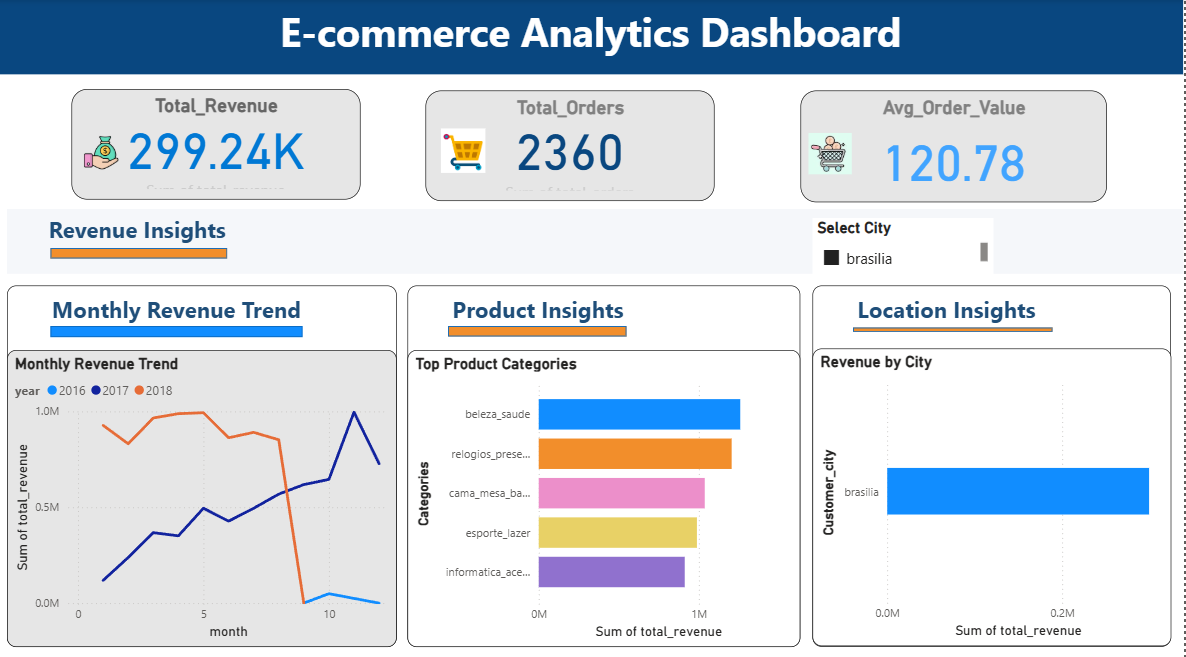

Layout of this report page (visuals, bound fields, positions):
{"tool":"powerbi","page":{"name":"Page 1","canvas":[1280,720],"ordinal":0},"visuals":[{"type":"textbox","box":[9.7,262.3,280.1,17.8],"z":0},{"type":"textbox","box":[0,0,1279.4,81.3],"z":1000},{"type":"card","title":"Total_Revenue","fields":{"Values":["Sum(revenue.total_revenue)"]},"box":[79.4,96.4,311.8,119.1],"z":2000},{"type":"image","box":[79.4,139.8,64.3,52.9],"z":3000},{"type":"card","title":"Total_Orders","fields":{"Values":["Sum(orders-by-city.total_orders)"]},"box":[461.1,98.3,311.8,119.1],"z":4000},{"type":"image","box":[461.1,134.2,81.3,58.6],"z":5000},{"type":"card","title":"Avg_Order_Value","fields":{"Values":["Sum(average-order-value.avg_order_value)"]},"box":[865.5,98.3,330.7,120.9],"z":6000},{"type":"image","box":[865.5,139.8,64.3,54.8],"z":7000},{"type":"textbox","box":[9.4,226.8,1269.9,69.9],"z":8000},{"type":"shape","box":[56.7,268.3,190.9,11.3],"z":9000},{"type":"textbox","box":[442,309.3,424.2,390.2],"z":10000},{"type":"shape","box":[485.8,353,192.7,11.3],"z":11000},{"type":"textbox","box":[9.7,309.3,421,390.2],"z":12000},{"type":"shape","box":[56.7,353.4,272.1,12],"z":13000},{"type":"textbox","box":[879.2,309.3,387,390.2],"z":14000},{"type":"shape","box":[923,354.6,215.4,4.9],"z":15000},{"type":"lineChart","title":"Monthly Revenue Trend","fields":{"Category":["monthly-revenue.month"],"Y":["Sum(monthly-revenue.total_revenue)"],"Series":["monthly-revenue.year"]},"box":[9.7,378.9,421,320.6],"z":15001},{"type":"clusteredBarChart","title":"Top Product Categories","fields":{"Category":["top-categories.product_category_name"],"Y":["Sum(top-categories.total_revenue)"]},"box":[442,378.9,424.2,320.6],"z":15002},{"type":"clusteredBarChart","title":"Revenue by City","fields":{"Category":["revenue.customer_city"],"Y":["Sum(revenue.total_revenue)"]},"box":[878.7,378,387.4,321.3],"z":15003},{"type":"slicer","title":"Select City","fields":{"Values":["revenue.customer_city"]},"box":[878.7,236.2,194.6,60.5],"z":15004}]}

Visuals, with their boxes in screenshot pixels (x1, y1, x2, y2), scaled from the page's 1280x720 canvas onto the 1186x657 screenshot:
textbox: select_region(9, 239, 269, 256)
textbox: select_region(0, 0, 1185, 74)
"Total_Revenue" card: select_region(74, 88, 362, 197)
image: select_region(74, 128, 133, 176)
"Total_Orders" card: select_region(427, 90, 716, 198)
image: select_region(427, 122, 503, 176)
"Avg_Order_Value" card: select_region(802, 90, 1108, 200)
image: select_region(802, 128, 862, 178)
textbox: select_region(9, 207, 1185, 271)
shape: select_region(53, 245, 229, 255)
textbox: select_region(410, 282, 803, 638)
shape: select_region(450, 322, 629, 332)
textbox: select_region(9, 282, 399, 638)
shape: select_region(53, 322, 305, 333)
textbox: select_region(815, 282, 1173, 638)
shape: select_region(855, 324, 1055, 328)
"Monthly Revenue Trend" lineChart: select_region(9, 346, 399, 638)
"Top Product Categories" clusteredBarChart: select_region(410, 346, 803, 638)
"Revenue by City" clusteredBarChart: select_region(814, 345, 1173, 638)
"Select City" slicer: select_region(814, 216, 994, 271)
